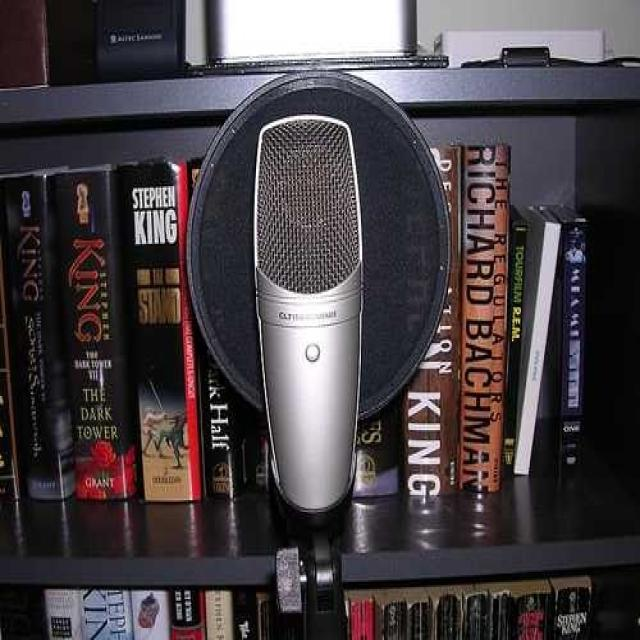microphone: (254, 110, 378, 518)
